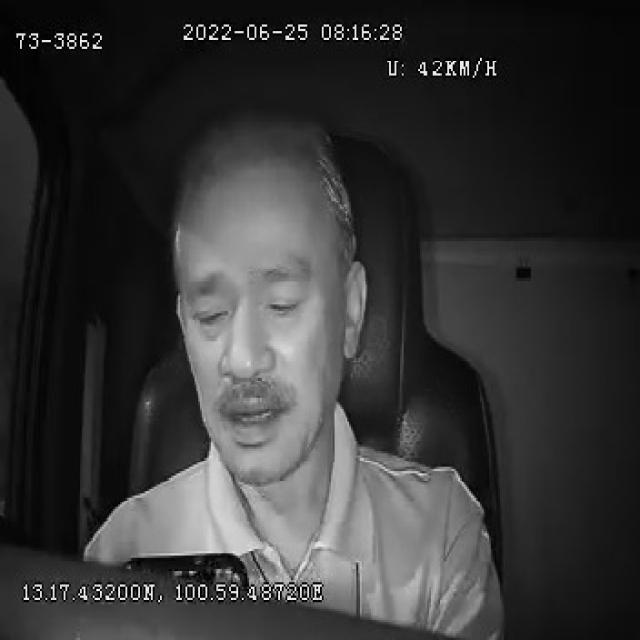phone: (123, 547, 250, 583)
